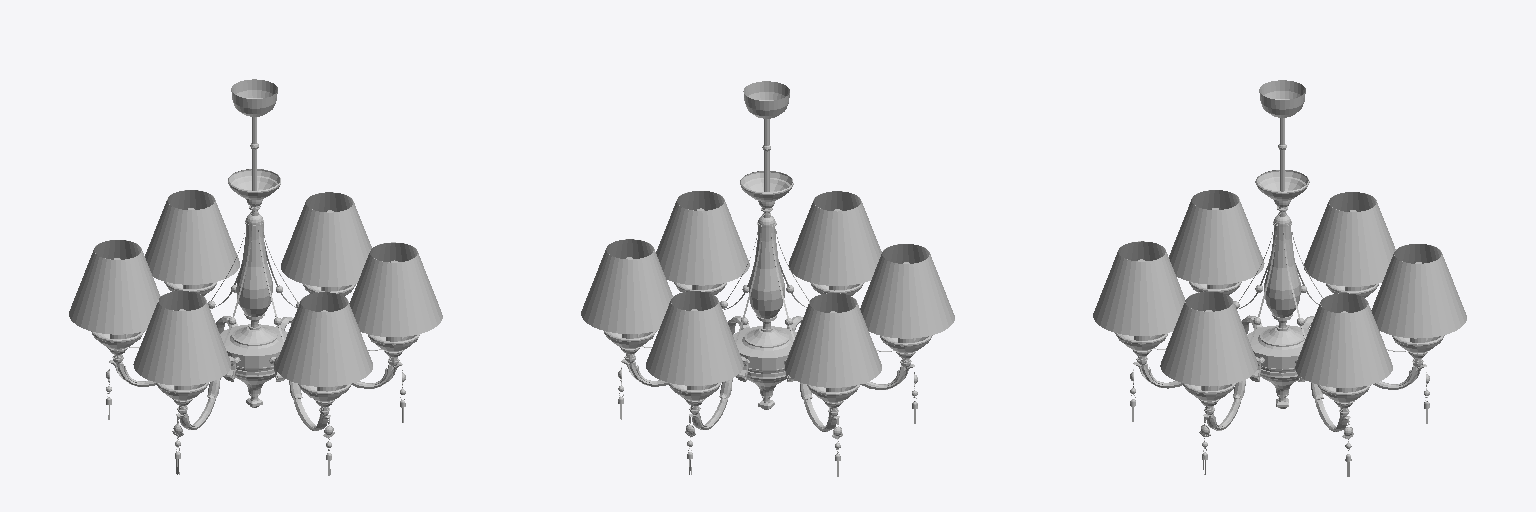
The model's file is lampara.obj.
The picture shows the model from 3 angles: view 1: azimuth 30°, elevation 25°; view 2: azimuth 150°, elevation 25°; view 3: azimuth 270°, elevation 25°; orthographic projection.
Visible parts, largest first — view 1: Chandelier_01_Line008.000; view 2: Chandelier_01_Line008.000; view 3: Chandelier_01_Line008.000.
Boxes of the visible parts, x1,y1,x2,y2 form: Chandelier_01_Line008.000: [69, 79, 442, 475]; Chandelier_01_Line008.000: [581, 81, 954, 476]; Chandelier_01_Line008.000: [1093, 80, 1466, 476].
Size of the model in its own units: 0.7465 by 0.7983 by 0.8155.